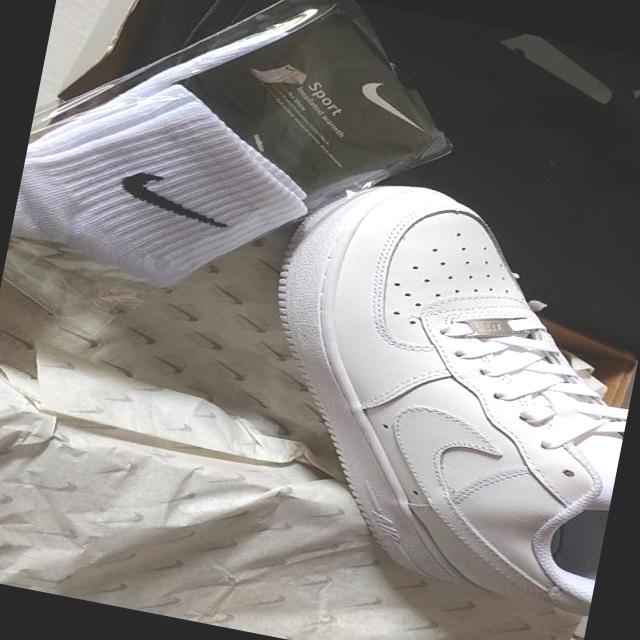nike_fake_airforce: (221, 156, 640, 620)
